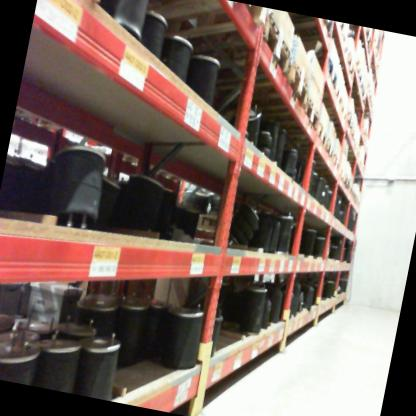pallet: (104, 0, 300, 96), (193, 45, 316, 117), (110, 0, 270, 55), (212, 79, 325, 133), (183, 202, 274, 249), (286, 43, 347, 89), (275, 126, 338, 162), (266, 114, 331, 146), (279, 12, 339, 43), (303, 84, 351, 118), (310, 104, 353, 132), (347, 29, 376, 52), (330, 160, 343, 173)
